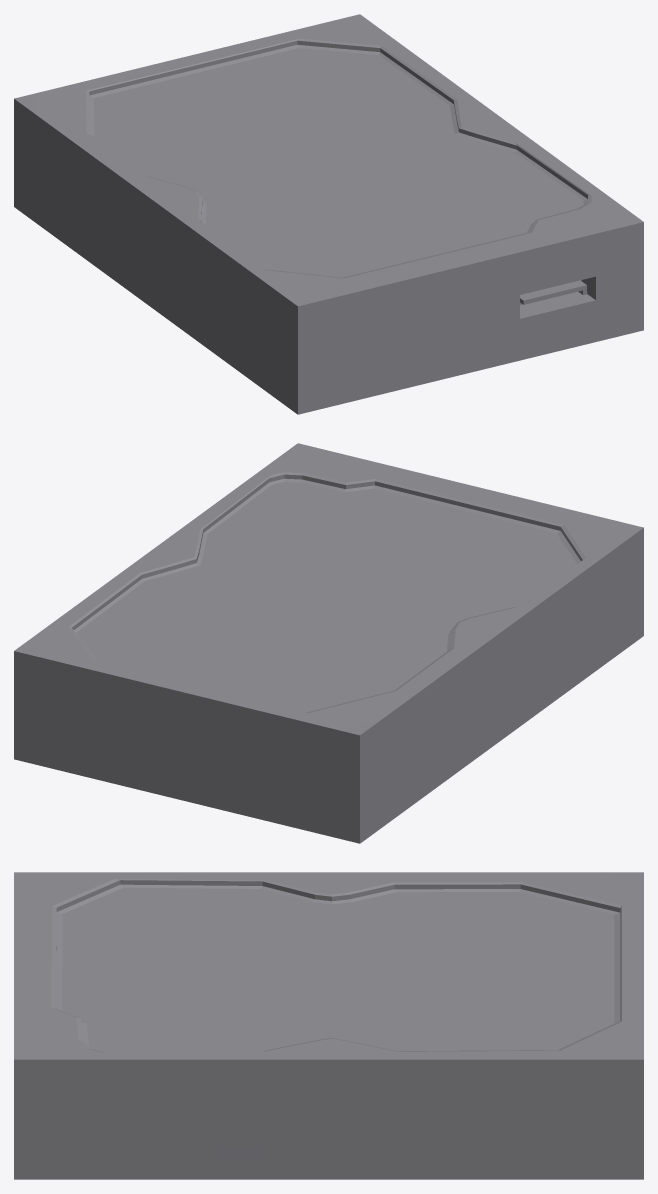
Rendered from HDD.fbx.
The picture shows the model from 3 angles, top to bottom: view 1: azimuth 30°, elevation 25°; view 2: azimuth 150°, elevation 25°; view 3: azimuth 270°, elevation 25°; orthographic projection. The views are drawn at different scales.
Parts seen in each view (by area): view 1: Cube; view 2: Cube; view 3: Cube.
Part boxes in pixels (left/top/right/bottom): Cube: left=14, top=14, right=643, bottom=414; Cube: left=14, top=443, right=643, bottom=843; Cube: left=14, top=872, right=643, bottom=1179.
Size of the model in its own units: 701 by 210 by 996.
1 material, 1 textured.
